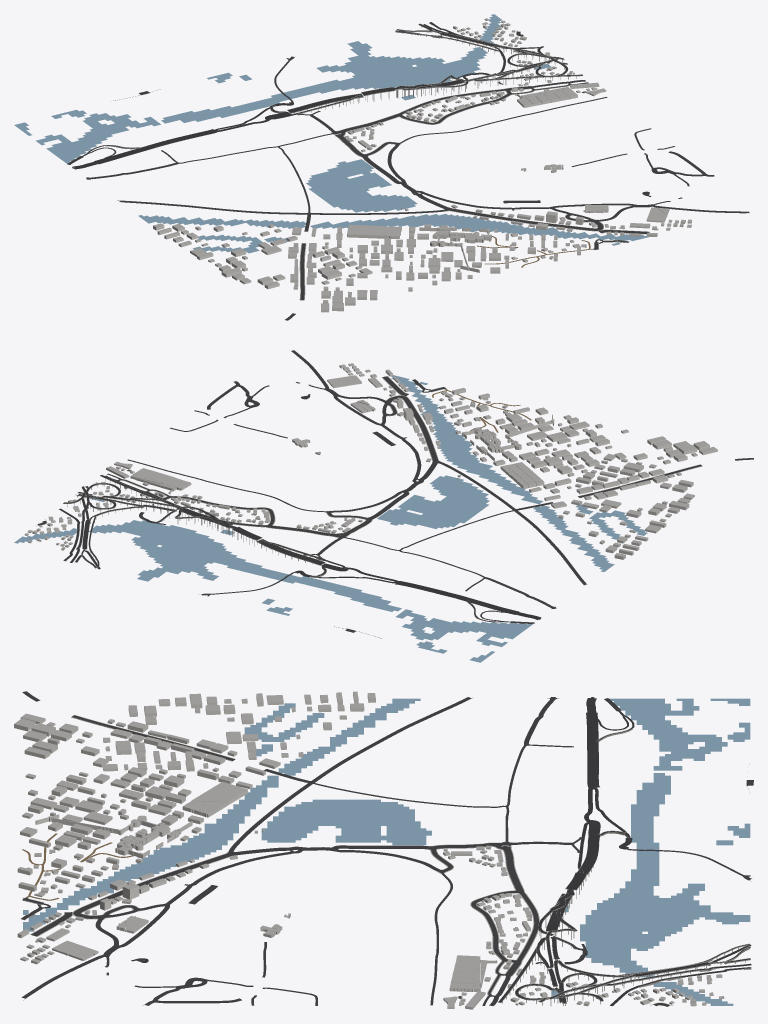
The model's file is chunk_6_5.glb.
3 views of the same model, one above another, from view 1: azimuth 30°, elevation 25°; view 2: azimuth 150°, elevation 25°; view 3: azimuth 270°, elevation 25° (orthographic). The views are drawn at different scales.
Visible parts, largest first — view 1: Water_6_5, Filler_6_5, Roads_6_5, RoadSides_6_5, Buildings_6_5; view 2: Water_6_5, Filler_6_5, Roads_6_5, RoadSides_6_5, Buildings_6_5; view 3: Water_6_5, Filler_6_5, Roads_6_5, Buildings_6_5, RoadSides_6_5.
Part boxes in pixels (bbox=[...]): Water_6_5: bbox=[14, 14, 649, 253]; Filler_6_5: bbox=[153, 18, 691, 312]; Roads_6_5: bbox=[67, 22, 749, 320]; RoadSides_6_5: bbox=[72, 22, 649, 300]; Buildings_6_5: bbox=[347, 86, 669, 272]; Water_6_5: bbox=[14, 375, 647, 662]; Filler_6_5: bbox=[24, 363, 717, 559]; Roads_6_5: bbox=[37, 350, 753, 638]; RoadSides_6_5: bbox=[36, 376, 702, 619]; Buildings_6_5: bbox=[114, 375, 554, 494]; Water_6_5: bbox=[23, 698, 750, 1005]; Filler_6_5: bbox=[14, 691, 724, 1009]; Roads_6_5: bbox=[21, 691, 753, 1006]; Buildings_6_5: bbox=[35, 781, 497, 1008]; RoadSides_6_5: bbox=[23, 697, 751, 1005].
Bounding box in the file's own units: 2091 × 41.68 × 2083.
